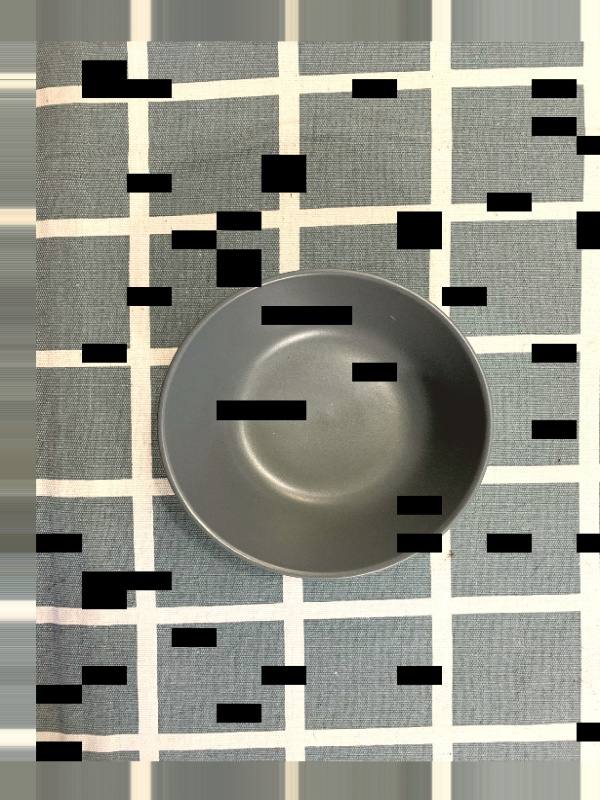bowl_big: (144, 260, 498, 599)
